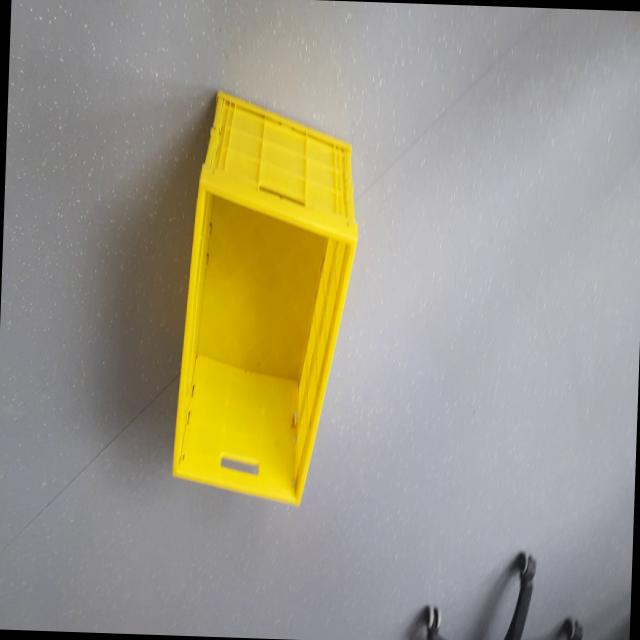box: (152, 82, 369, 525)
